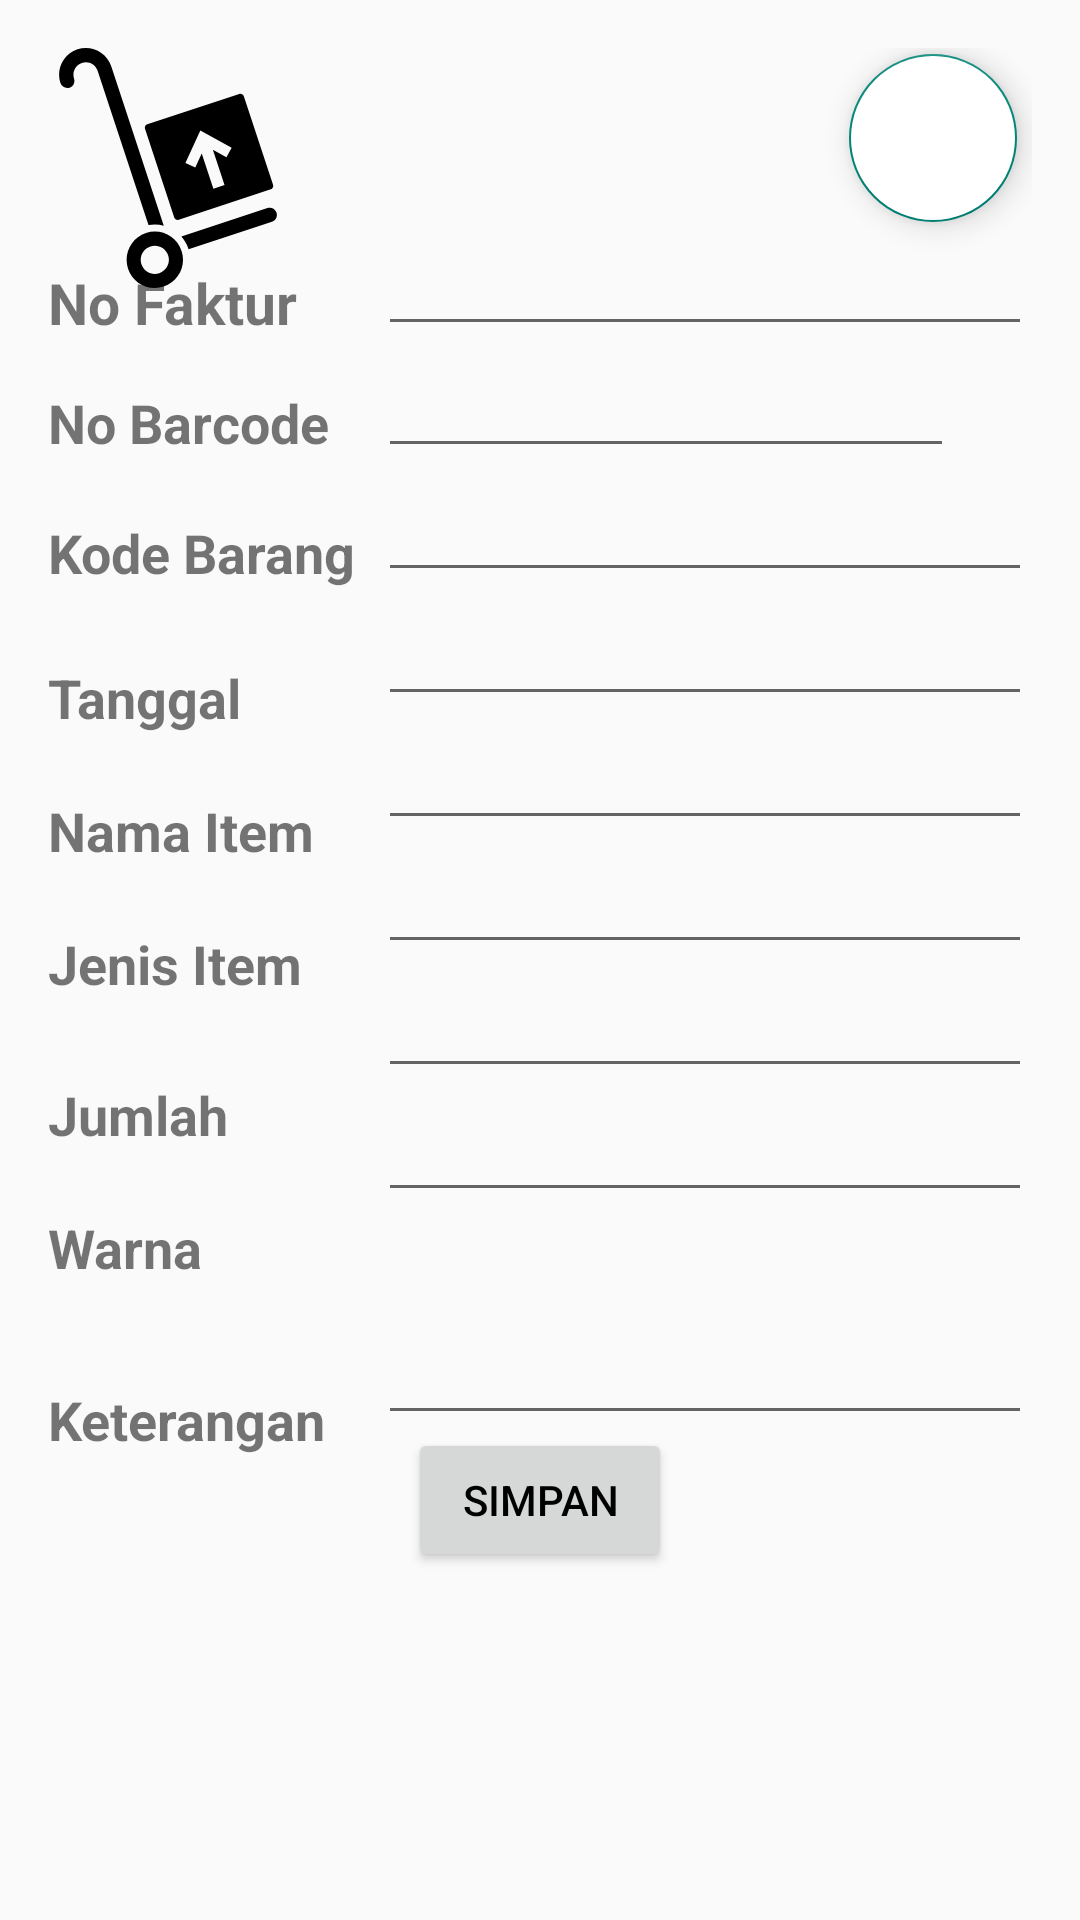

Where icons sit on this 1080*1920 app screen, as (x1, y1, x2, y2):
package transport: (59, 48, 277, 250)
